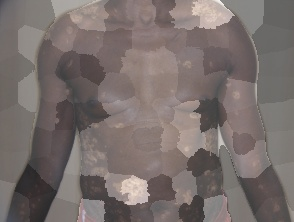vitiligo: (152, 105, 250, 222), (76, 107, 149, 222), (184, 0, 237, 35), (64, 0, 106, 30)
